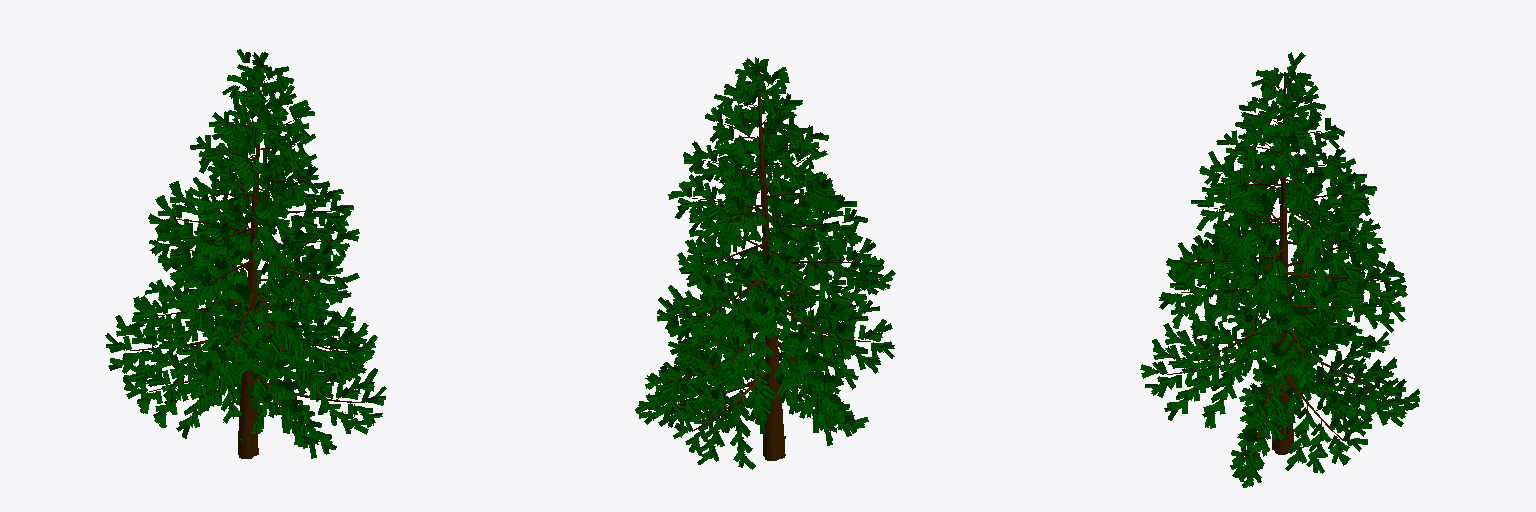
The model's file is spruce.obj.
3 views of the same model, side by side, from view 1: azimuth 30°, elevation 25°; view 2: azimuth 150°, elevation 25°; view 3: azimuth 270°, elevation 25° (orthographic).
Parts seen in each view (by area): view 1: Foliage01; view 2: Foliage01; view 3: Foliage01.
Boxes of the visible parts, box(x1,y1,x2,y2) form: Foliage01: box(105, 49, 386, 458); Foliage01: box(635, 57, 895, 469); Foliage01: box(1140, 52, 1419, 487).
Bounding box in the file's own units: 273 × 468 × 296.